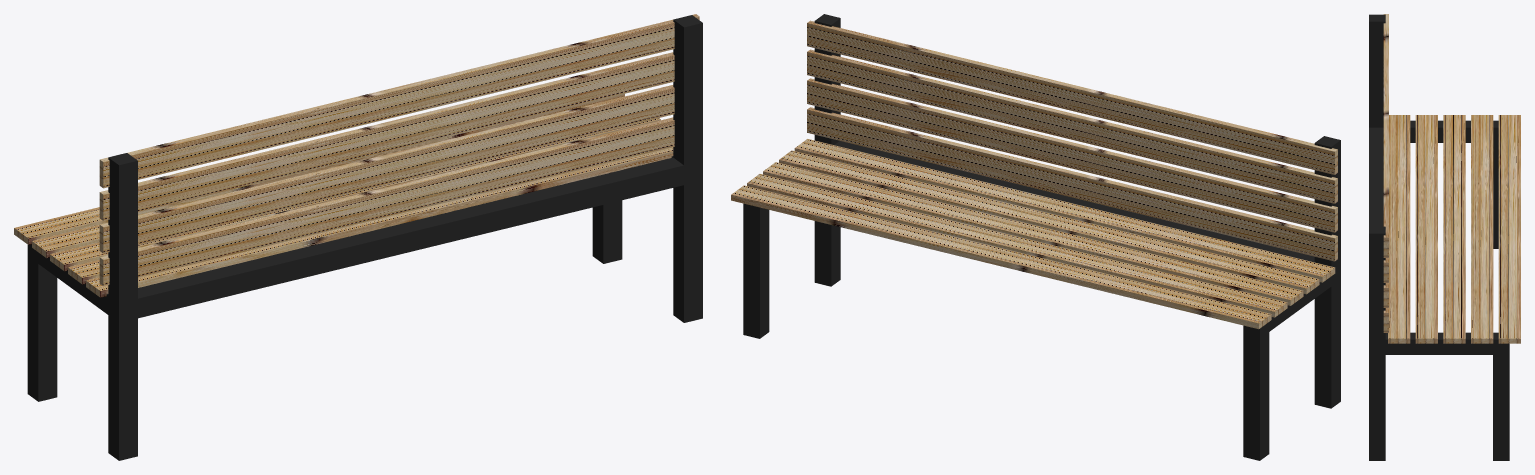
File: bench.fbx
3 renders of one model, left to right at view 1: azimuth 30°, elevation 25°; view 2: azimuth 150°, elevation 25°; view 3: azimuth 270°, elevation 25°, orthographic. The views are drawn at different scales.
Parts seen in each view (by area): view 1: Cube.003; view 2: Cube.003; view 3: Cube.003.
Boxes of the visible parts, x1,y1,x2,y2 form: Cube.003: (14, 14, 702, 460); Cube.003: (731, 14, 1340, 460); Cube.003: (1369, 14, 1520, 460).
Bounding box in the file's own units: 190 × 90 × 54.53.
Materials: 3 (3 with a texture image).
